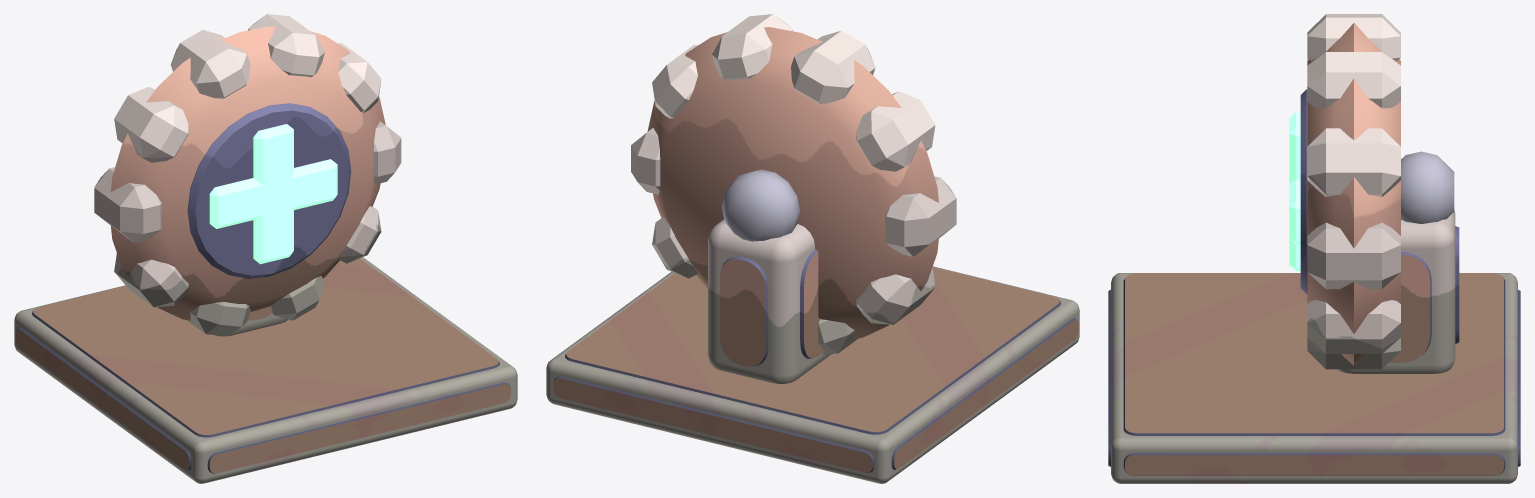
Rendered from R4X_RepairBooster.glb.
3 views of the same model, side by side, from view 1: azimuth 30°, elevation 25°; view 2: azimuth 150°, elevation 25°; view 3: azimuth 270°, elevation 25° (orthographic). The views are drawn at different scales.
Parts seen in each view (by area): view 1: R4X_RepairBooster_Body; view 2: R4X_RepairBooster_Body; view 3: R4X_RepairBooster_Body.
Boxes of the visible parts, x1,y1,x2,y2 form: R4X_RepairBooster_Body: (14,14,517,483); R4X_RepairBooster_Body: (546,14,1079,483); R4X_RepairBooster_Body: (1108,14,1520,483).
Bounding box in the file's own units: 0.52 × 0.5153 × 0.52.
5 materials, 4 textured.
